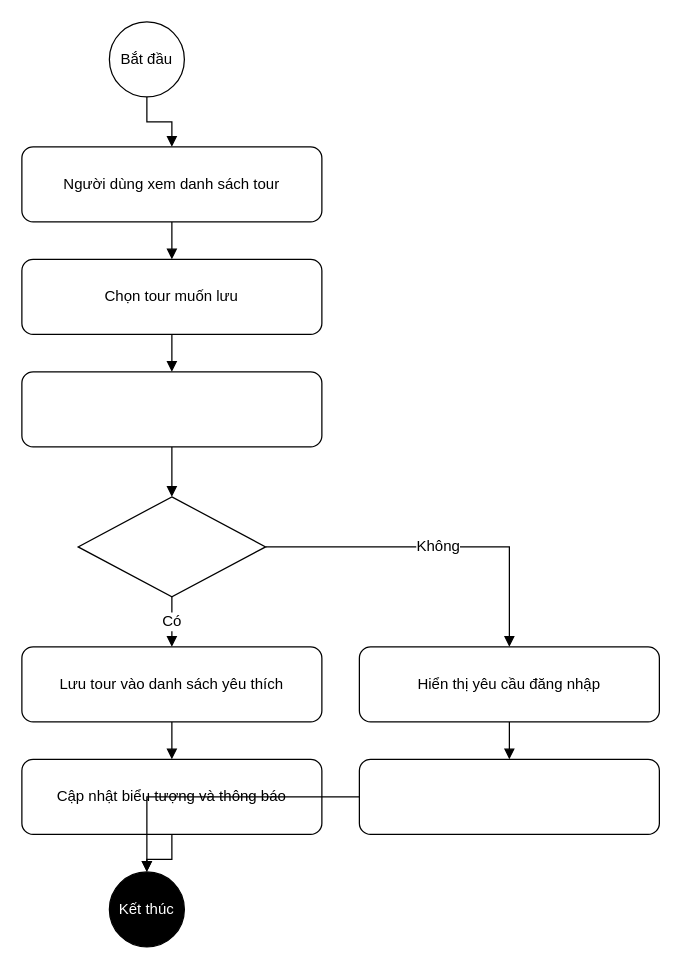
Image size: 681x969. Some labels were removed from this diagram. The shapes that lost their labels are listed below. From the top down, each one's centre as x and y in pixels, then its label:
pixel 171 409: Nhấn nút thêm vào yêu thích
pixel 171 546: Người dùng đã đăng nhập?
pixel 508 796: Chuyển người dùng đến trang đăng nhập
